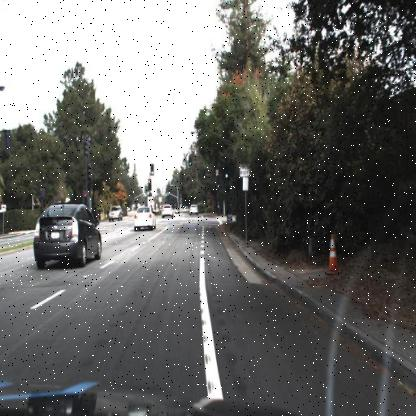car: (30, 200, 102, 280), (130, 204, 157, 234), (105, 200, 124, 225), (159, 202, 174, 223), (188, 198, 202, 219)
trafficLight-Green: (223, 161, 230, 183), (215, 176, 222, 194), (149, 161, 156, 177), (148, 163, 155, 178), (187, 153, 193, 169), (224, 168, 229, 182), (216, 179, 220, 191)
trafficLight-Red: (83, 190, 88, 207), (147, 177, 152, 189)
trafficLight-RedLeft: (81, 190, 92, 206), (147, 176, 154, 192)
